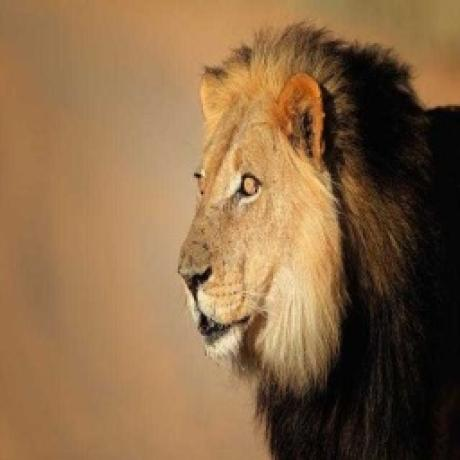Lion: (174, 20, 460, 460)
